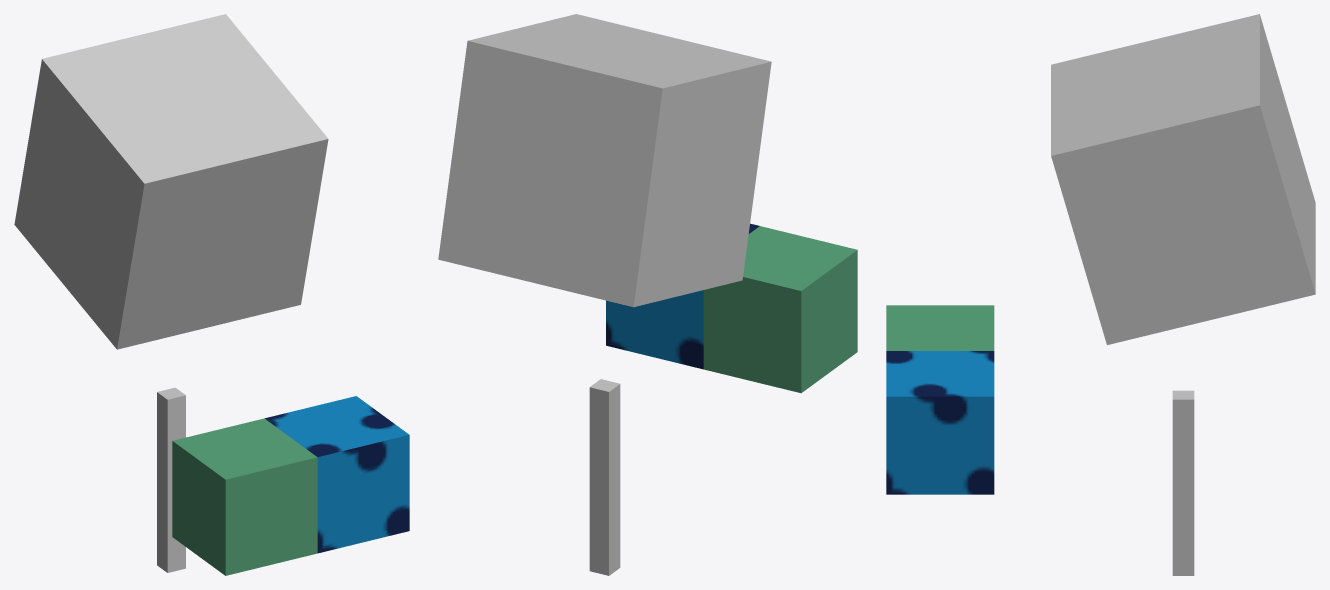
Rendered from NewPlayer_umbrella.gltf.
The picture shows the model from 3 angles, left to right: view 1: azimuth 30°, elevation 25°; view 2: azimuth 150°, elevation 25°; view 3: azimuth 270°, elevation 25°; orthographic projection. The views are drawn at different scales.
Visible parts, largest first — view 1: Cube.001, Cube.002, Cube.003, Cube; view 2: Cube.001, Cube.002, Cube, Cube.003; view 3: Cube.001, Cube.003, Cube.002, Cube.
Part boxes in pixels (x1,y1,x2,y2): Cube.001: (14, 14, 328, 349); Cube.002: (172, 418, 317, 575); Cube.003: (265, 396, 409, 553); Cube: (157, 387, 185, 572); Cube.001: (438, 14, 771, 307); Cube.002: (703, 226, 857, 393); Cube: (589, 379, 620, 575); Cube.003: (606, 223, 759, 369); Cube.001: (1051, 14, 1315, 344); Cube.003: (886, 351, 994, 494); Cube.002: (886, 305, 994, 350); Cube: (1172, 390, 1194, 575).
Bounding box in the file's own units: 0.8 × 2.09 × 1.59.
